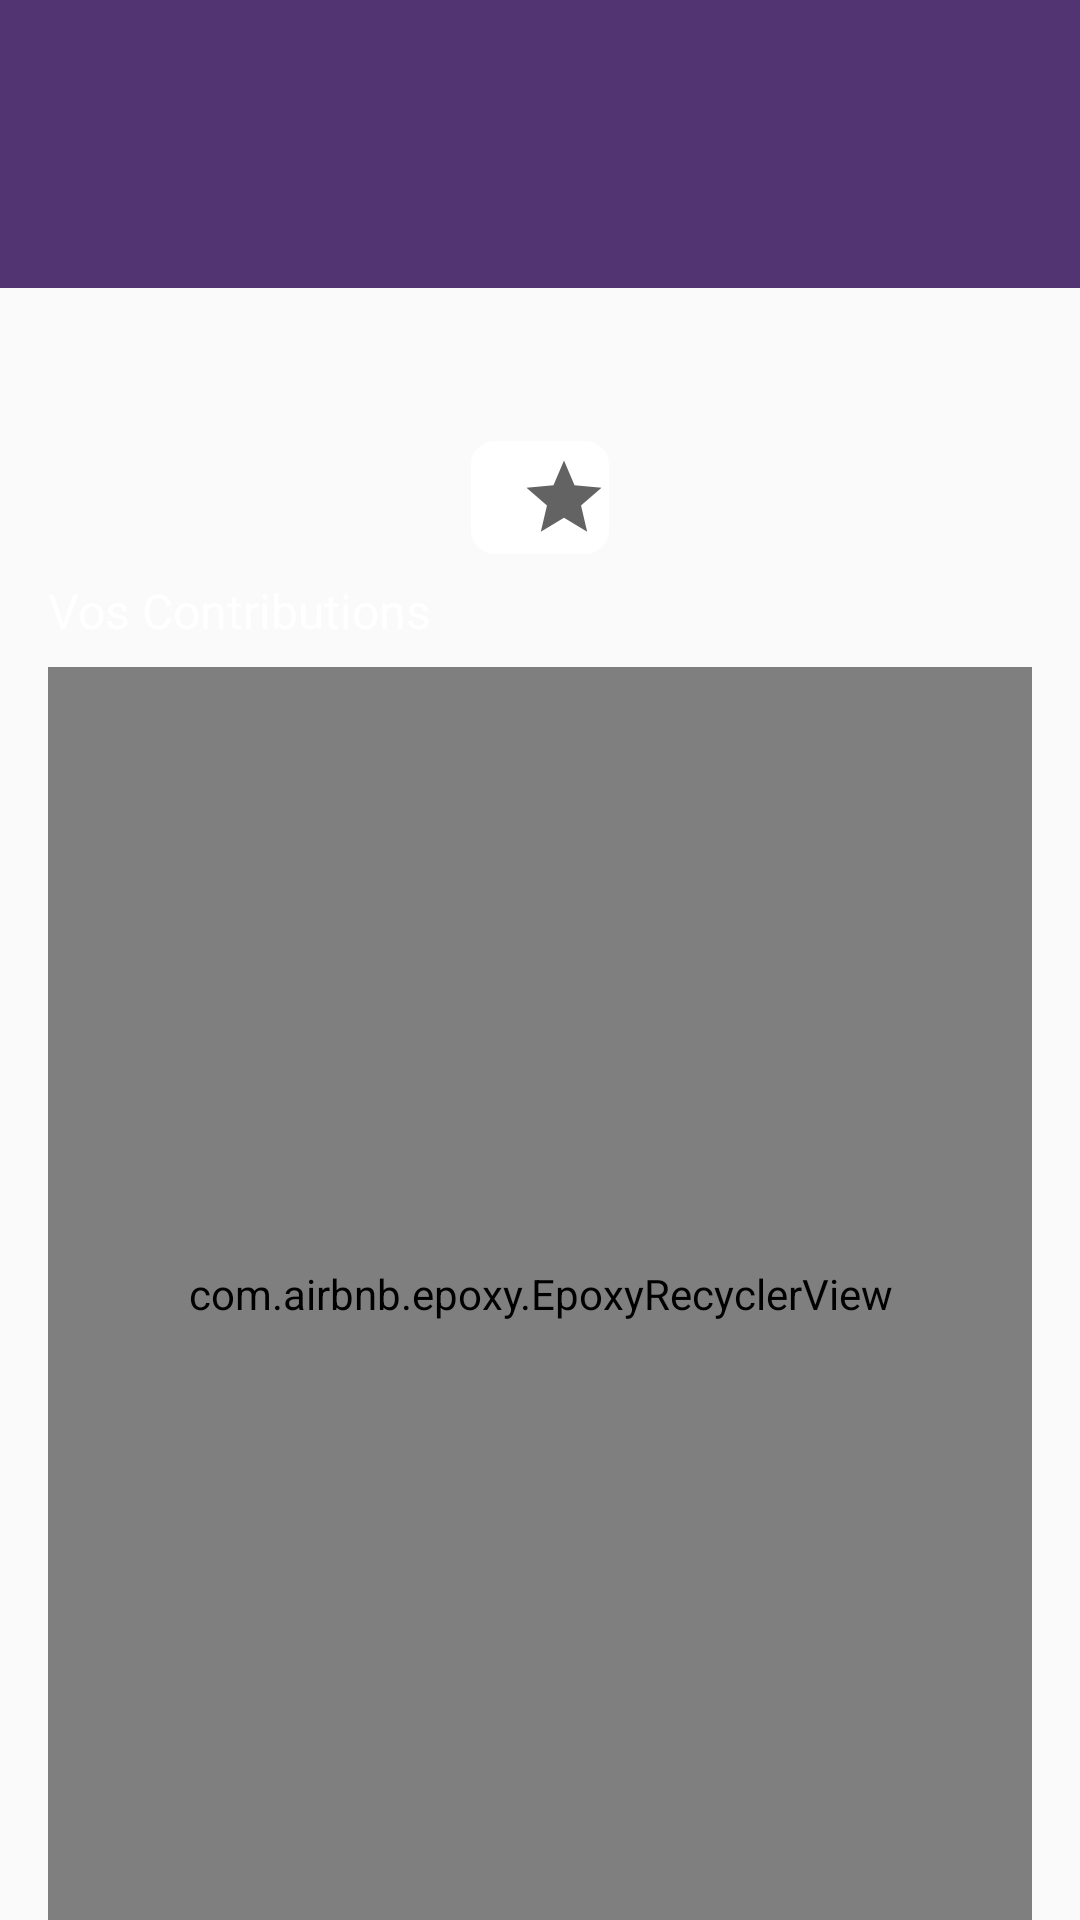

Where to tap for icons on this 1080 × 1920 app screen, as (x,y):
star: (564,496)
